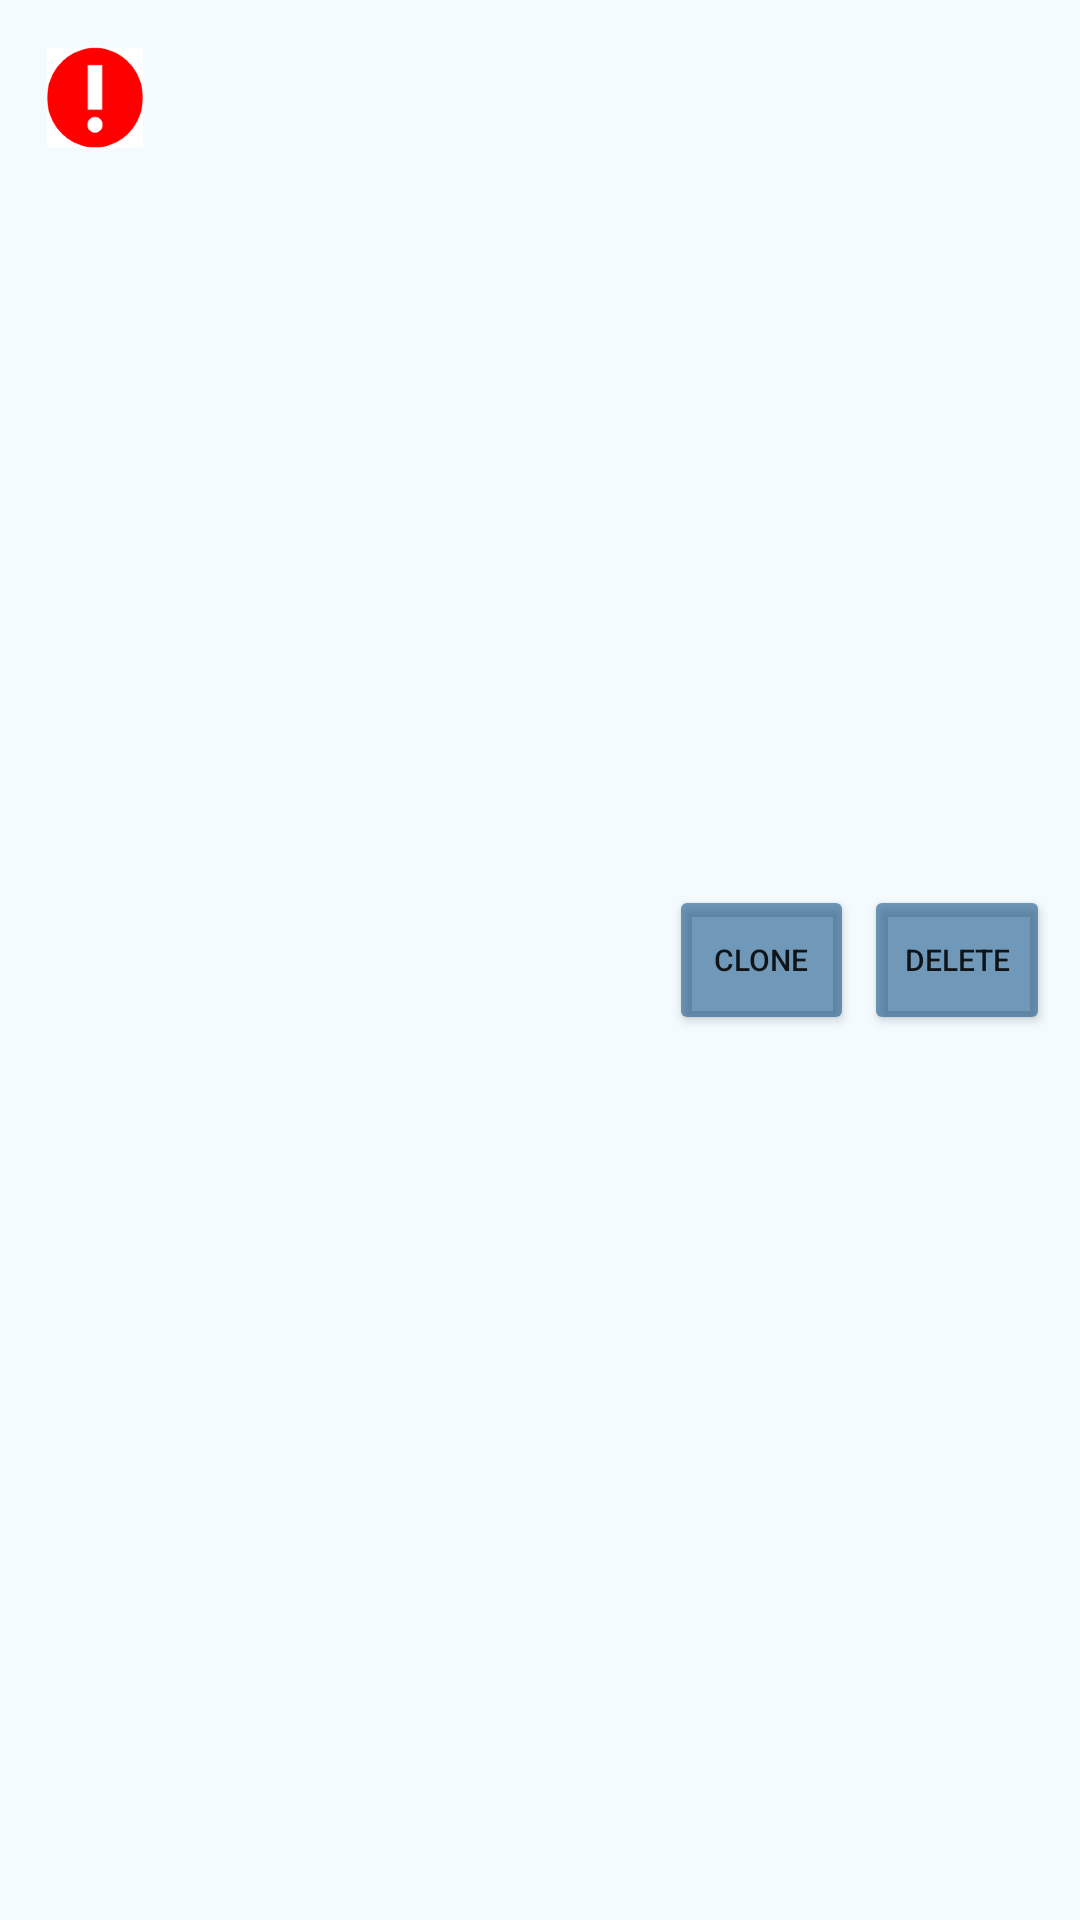

Icons on this 1080 x 1920 Android screen, each with the point to tap as [x,y]:
warning: [95,97]
